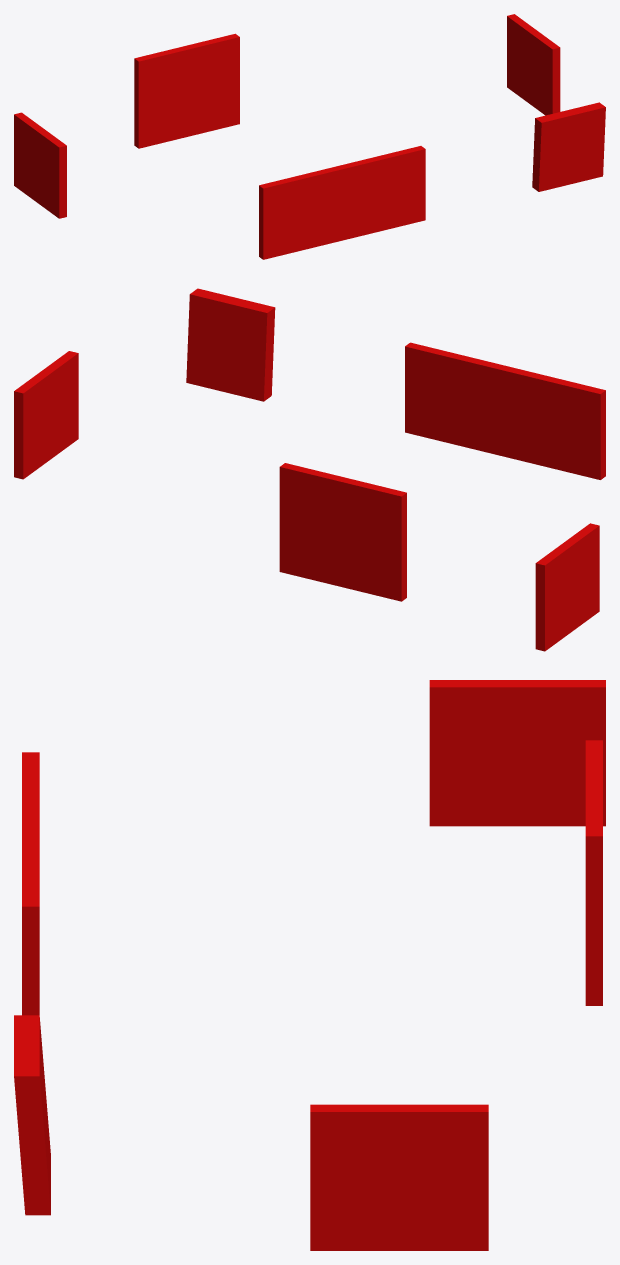
The model's file is SM_Bld_Shop_Small_03_Barricades_01_Collision.fbx.
The picture shows the model from 3 angles, top to bottom: view 1: azimuth 30°, elevation 25°; view 2: azimuth 150°, elevation 25°; view 3: azimuth 270°, elevation 25°; orthographic projection. The views are drawn at different scales.
Parts seen in each view (by area): view 1: SM_Bld_Shop_Small_03_Barricades_01_Collision; view 2: SM_Bld_Shop_Small_03_Barricades_01_Collision; view 3: SM_Bld_Shop_Small_03_Barricades_01_Collision.
Boxes of the visible parts, bbox=[...] form: SM_Bld_Shop_Small_03_Barricades_01_Collision: bbox=[14, 14, 605, 259]; SM_Bld_Shop_Small_03_Barricades_01_Collision: bbox=[14, 288, 605, 651]; SM_Bld_Shop_Small_03_Barricades_01_Collision: bbox=[14, 680, 605, 1250].
Size of the model in its own units: 1011 by 203 by 566.
